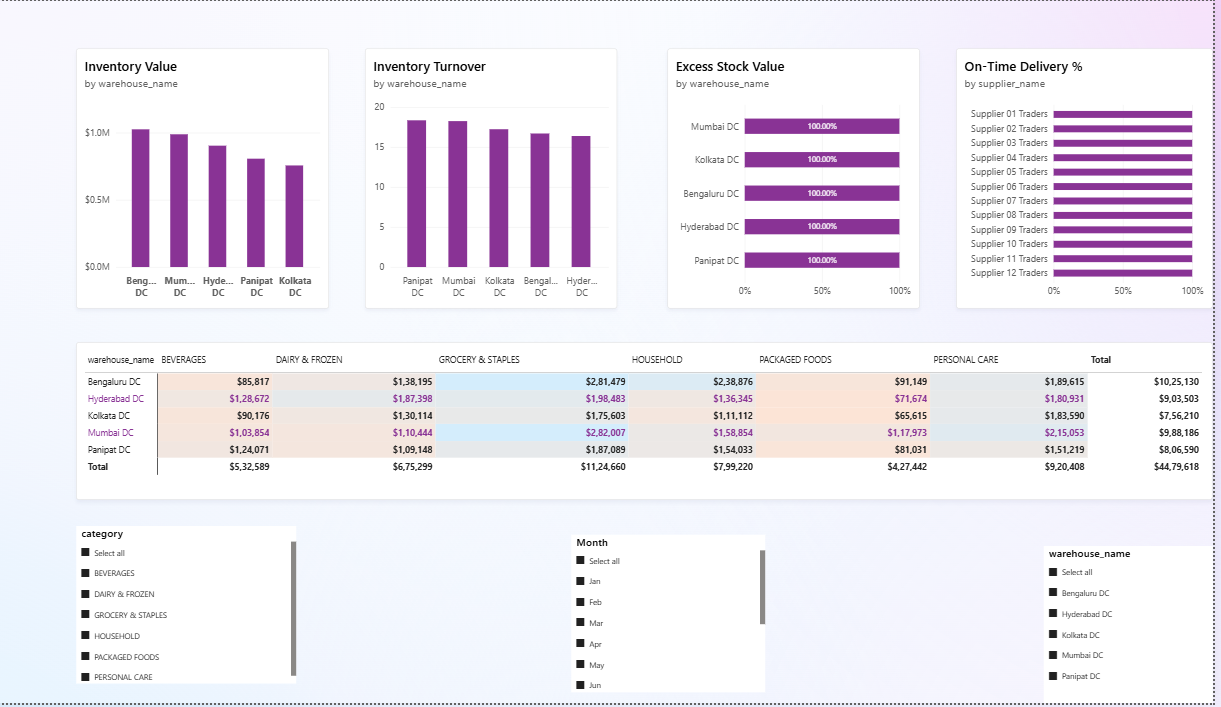

What the dashboard file says about the page in this screenshot:
{"tool":"powerbi","page":{"name":"Warehouse & Suppliers","canvas":[1920,1080],"ordinal":2},"visuals":[{"type":"slicer","fields":{"Values":["dim_warehouse.warehouse_name"]},"box":[1659.6,838.5,259.6,242.3],"z":0},{"type":"slicer","fields":{"Values":["dim_date.Month"]},"box":[932.7,821.2,298.1,242.3],"z":1000},{"type":"slicer","fields":{"Values":["dim_product.category"]},"box":[171.2,807.7,338,242],"z":2000},{"type":"clusteredColumnChart","fields":{"Category":["dim_warehouse.warehouse_name"],"Y":["_Measures.Inventory Value"]},"box":[171.2,73.1,388.5,400],"z":3000},{"type":"clusteredColumnChart","fields":{"Category":["dim_warehouse.warehouse_name"],"Y":["_Measures.Inventory Turnover"]},"box":[615.4,73.1,388,400],"z":4000},{"type":"hundredPercentStackedBarChart","fields":{"Category":["dim_warehouse.warehouse_name"],"Y":["_Measures.Excess Stock Value"]},"box":[1080.8,73.1,388,400],"z":5000},{"type":"pivotTable","fields":{"Columns":["dim_product.category"],"Rows":["dim_warehouse.warehouse_name"],"Values":["_Measures.Inventory Value"]},"box":[171.2,525,1748.1,242.3],"z":6000},{"type":"hundredPercentStackedBarChart","fields":{"Category":["dim_supplier.supplier_name"],"Y":["_Measures.On-Time Delivery %"]},"box":[1525,73.1,394.2,400],"z":7000}]}

Visuals, with their boxes in screenshot pixels (x1, y1, x2, y2), scaled from the page's 1920x1080 canvas onto the 1221x707 screenshot:
slicer - dim_warehouse.warehouse_name: 1055 549 1220 706
slicer - dim_date.Month: 593 538 783 696
slicer - dim_product.category: 109 529 324 687
clusteredColumnChart - dim_warehouse.warehouse_name x _Measures.Inventory Value: 109 48 356 310
clusteredColumnChart - dim_warehouse.warehouse_name x _Measures.Inventory Turnover: 391 48 638 310
hundredPercentStackedBarChart - dim_warehouse.warehouse_name x _Measures.Excess Stock Value: 687 48 934 310
pivotTable - dim_product.category x dim_warehouse.warehouse_name: 109 344 1220 502
hundredPercentStackedBarChart - dim_supplier.supplier_name x _Measures.On-Time Delivery %: 970 48 1220 310
